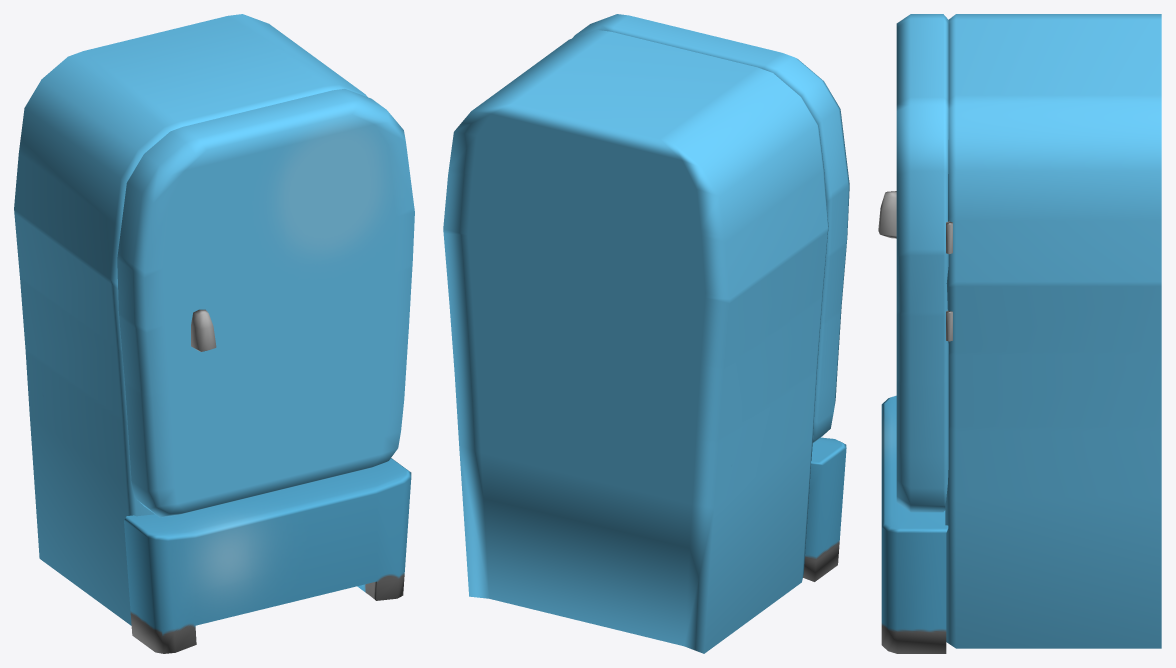
The model's file is fridge.fbx.
3 views of the same model, side by side, from view 1: azimuth 30°, elevation 25°; view 2: azimuth 150°, elevation 25°; view 3: azimuth 270°, elevation 25° (orthographic). The views are drawn at different scales.
Parts seen in each view (by area): view 1: door, base; view 2: base, door; view 3: base, door.
Part boxes in pixels (<box>): door: <box>117,89,414,517</box>; base: <box>14,14,411,653</box>; base: <box>443,30,846,653</box>; door: <box>572,14,849,443</box>; base: <box>881,14,1161,653</box>; door: <box>878,14,948,512</box>.
Size of the model in its own units: 108 by 180 by 87.16.
